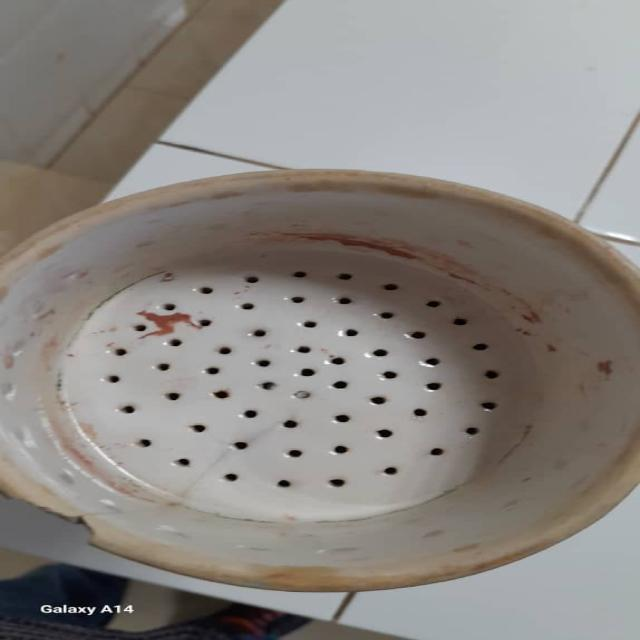Bunchen funnel: (4, 168, 636, 592)
